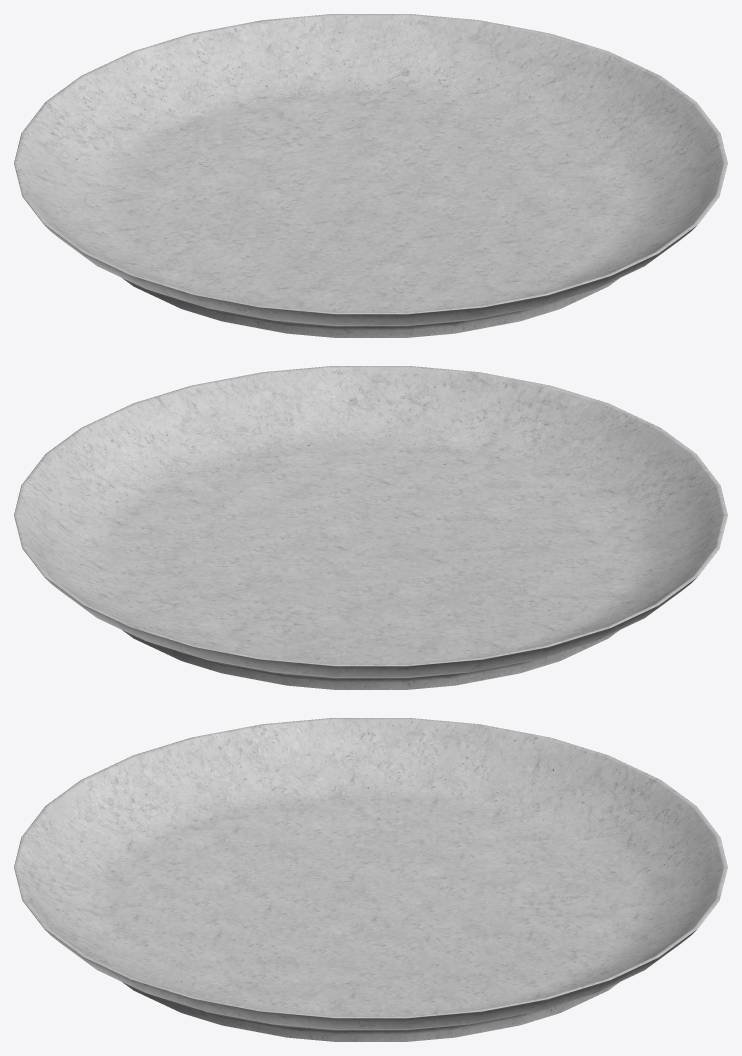
File: Plate.FBX
The picture shows the model from 3 angles, top to bottom: view 1: azimuth 30°, elevation 25°; view 2: azimuth 150°, elevation 25°; view 3: azimuth 270°, elevation 25°; orthographic projection.
Parts seen in each view (by area): view 1: Plate; view 2: Plate; view 3: Plate.
Boxes of the visible parts, x1,y1,x2,y2 form: Plate: [14, 14, 727, 337]; Plate: [14, 366, 727, 689]; Plate: [14, 718, 727, 1041].
Size of the model in its own units: 160 by 13.17 by 161.
